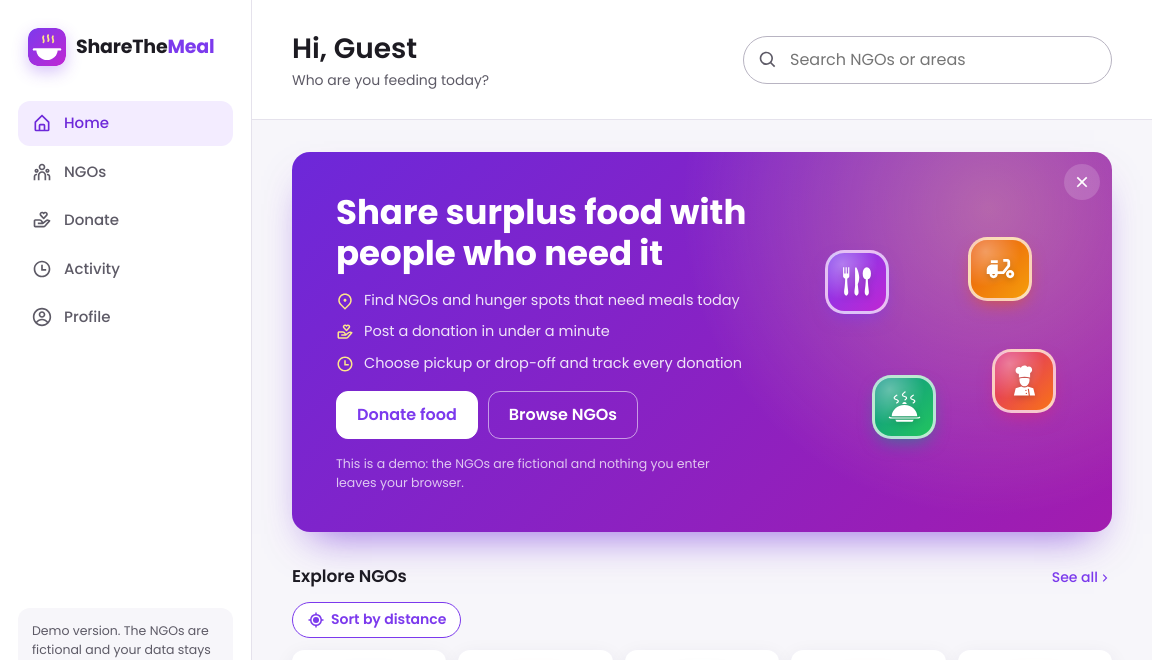
Test: landing › opens straight on Home as a guest, with a welcome that can be dismissed
Check: the heading "Hi, Guest" is shown, box [292,29,417,68]
Check: the heading "Share surplus food with people who need it" is shown, box [336,192,751,274]
Step 1. Click the button named "Dismiss welcome" → (1082, 182), box [1064,164,1100,200]
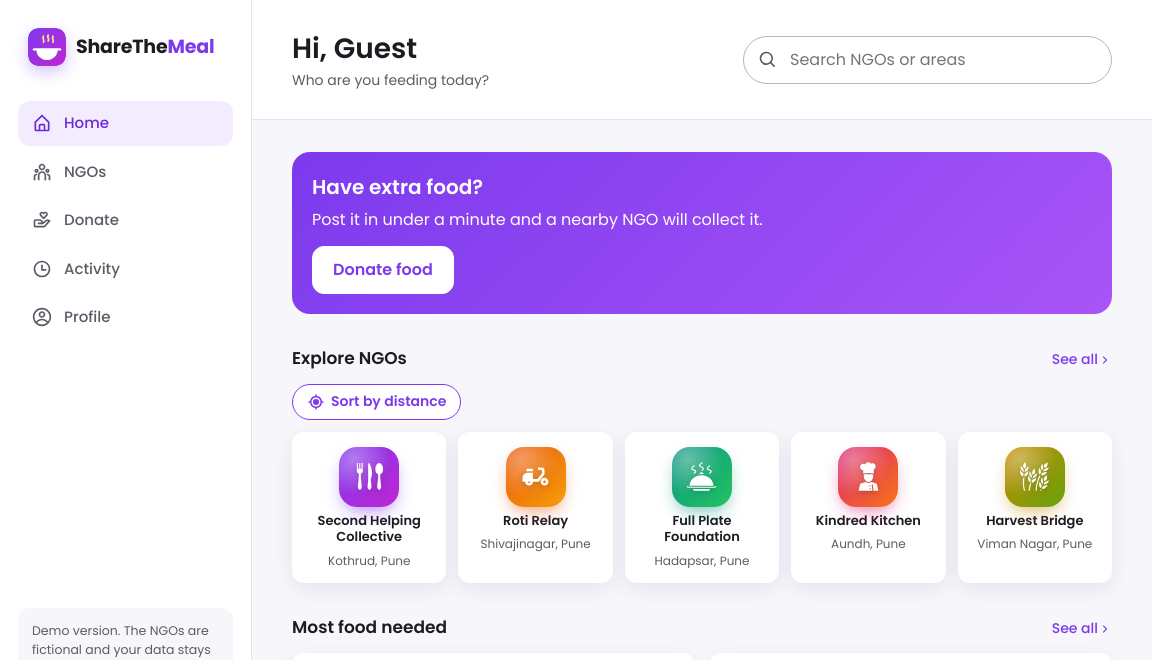
Check: the heading "Share surplus food with people who need it" is gone
Check: the heading "Have extra food?" is shown, box [312,173,483,201]
